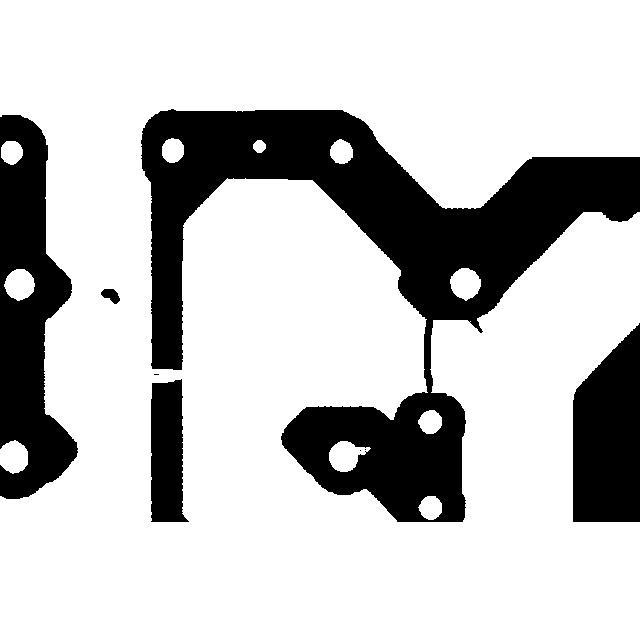copper: (91, 279, 129, 313)
mousebite: (342, 437, 380, 464)
open: (130, 353, 197, 392)
pin-hole: (243, 130, 275, 162)
short: (414, 308, 442, 402)
spur: (457, 303, 492, 342)
